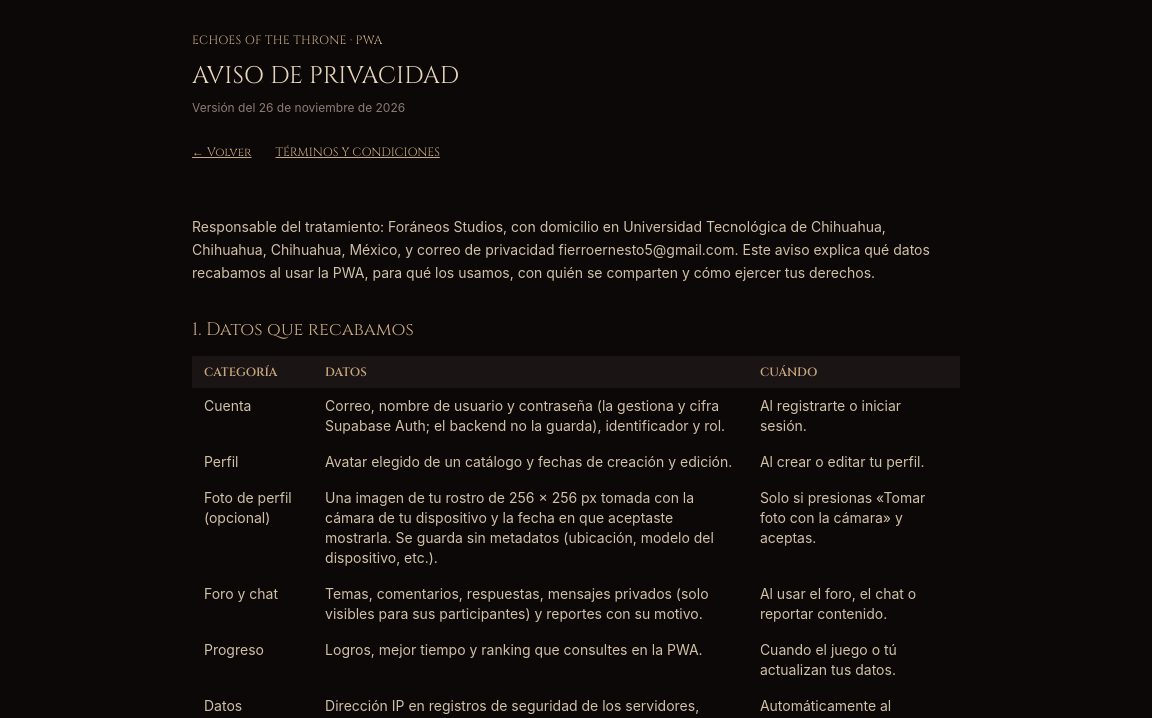
shows the privacy notice with its data table and a back button
This screenshot has width=1152, height=718.
Check: the column heading "Categoría" is shown, box left=192, top=356, right=313, bottom=388
Click the button "← Volver" at (222, 152), box left=192, top=132, right=252, bottom=172
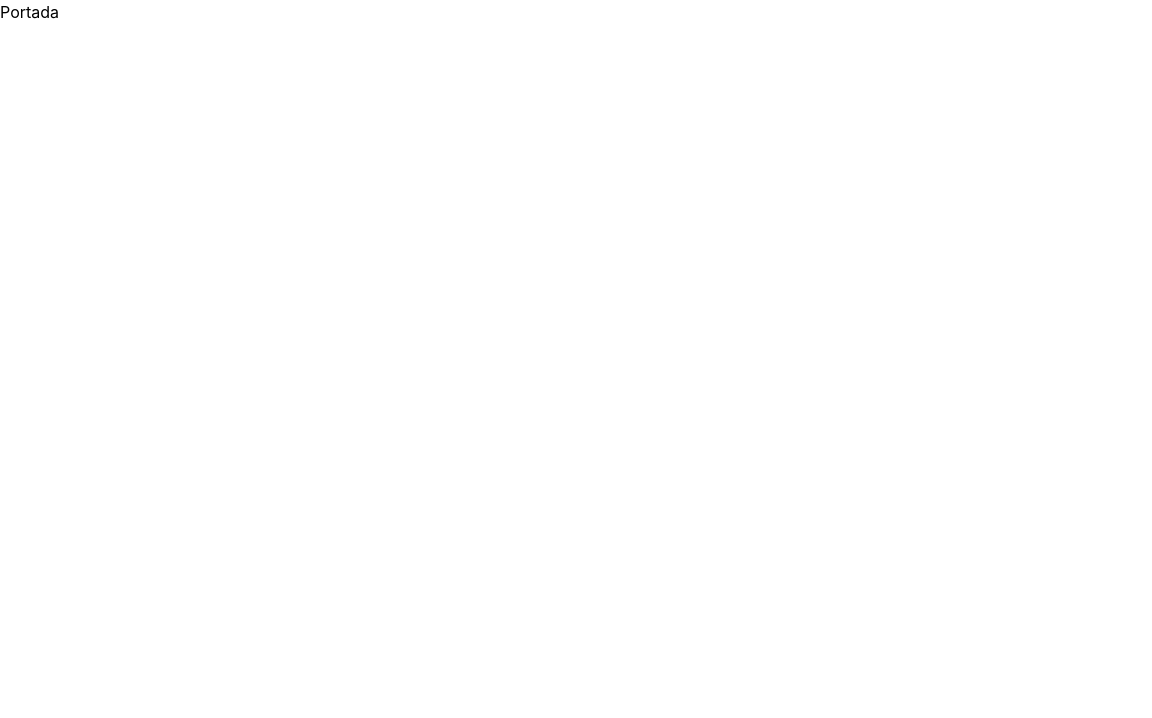
Check: the text "Portada" is shown, box left=0, top=2, right=59, bottom=22
